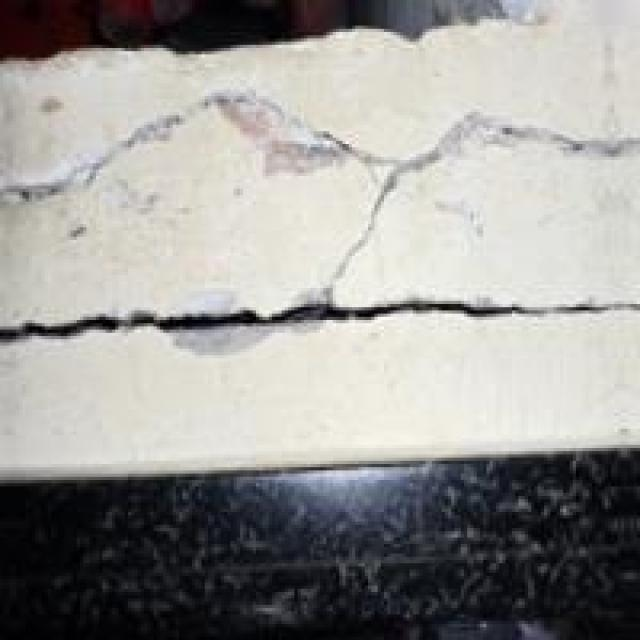Crack: (0, 237, 624, 448)
